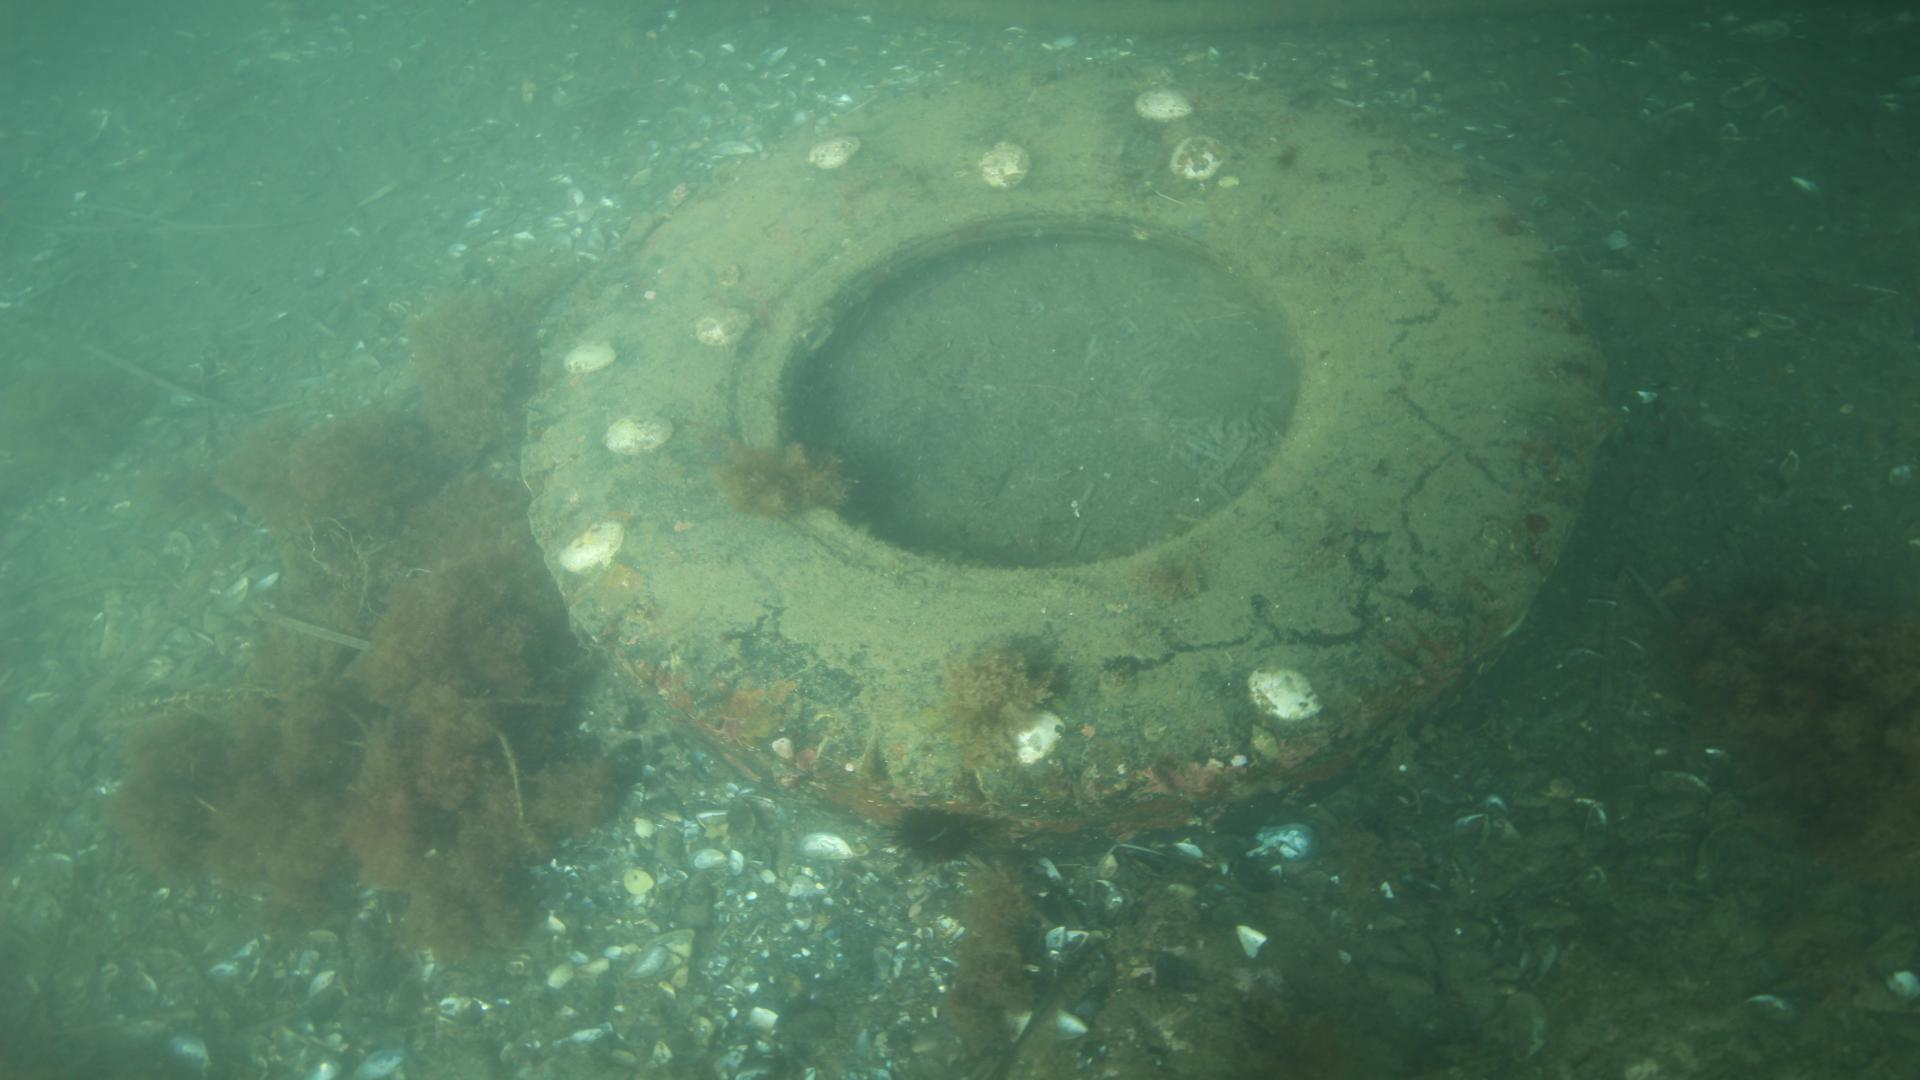tire: (516, 59, 1609, 855)
